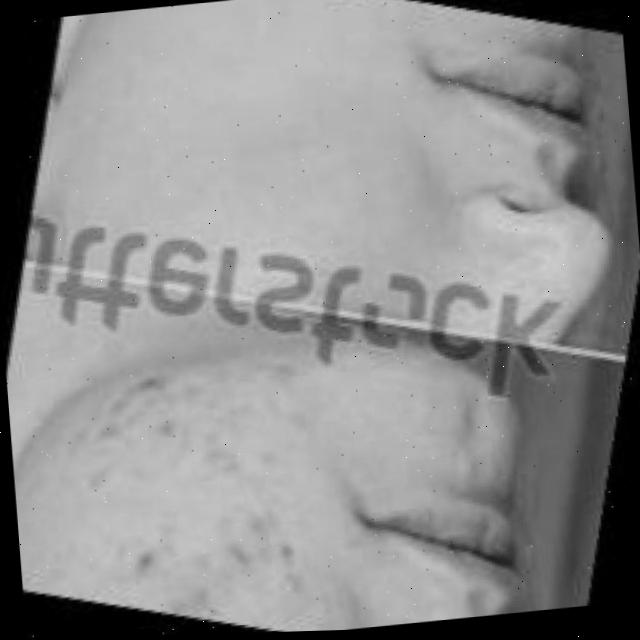Acne: (58, 359, 319, 634)
